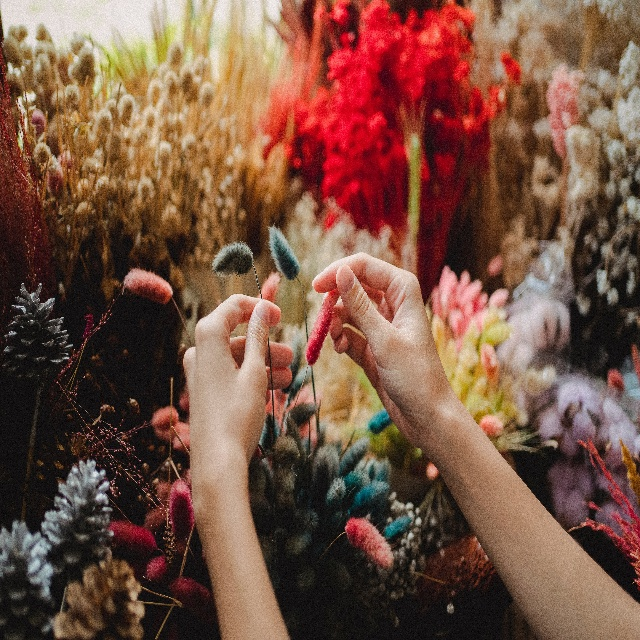Sin_guantes: (312, 254, 447, 429), (181, 292, 294, 451)
